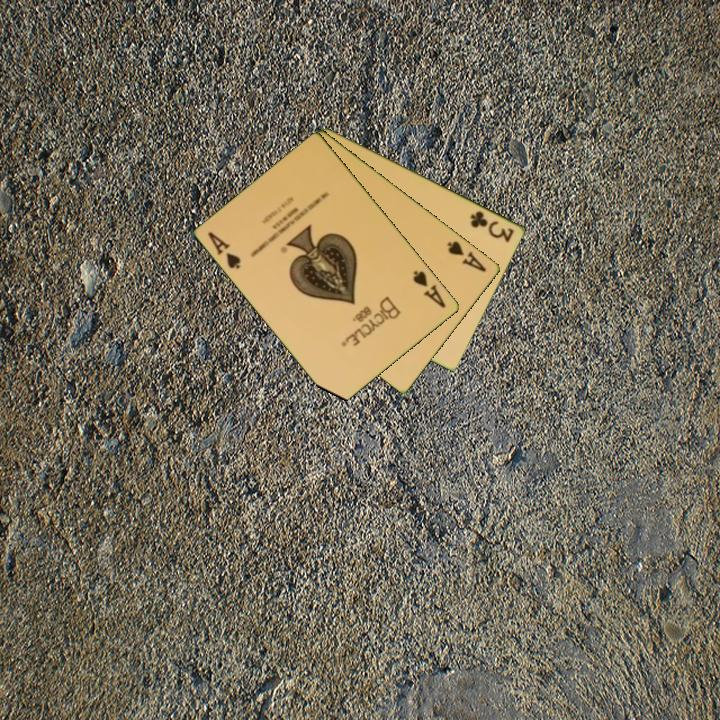3c: (467, 207, 517, 245)
As: (204, 228, 244, 272), (410, 266, 449, 311), (444, 237, 490, 275)
